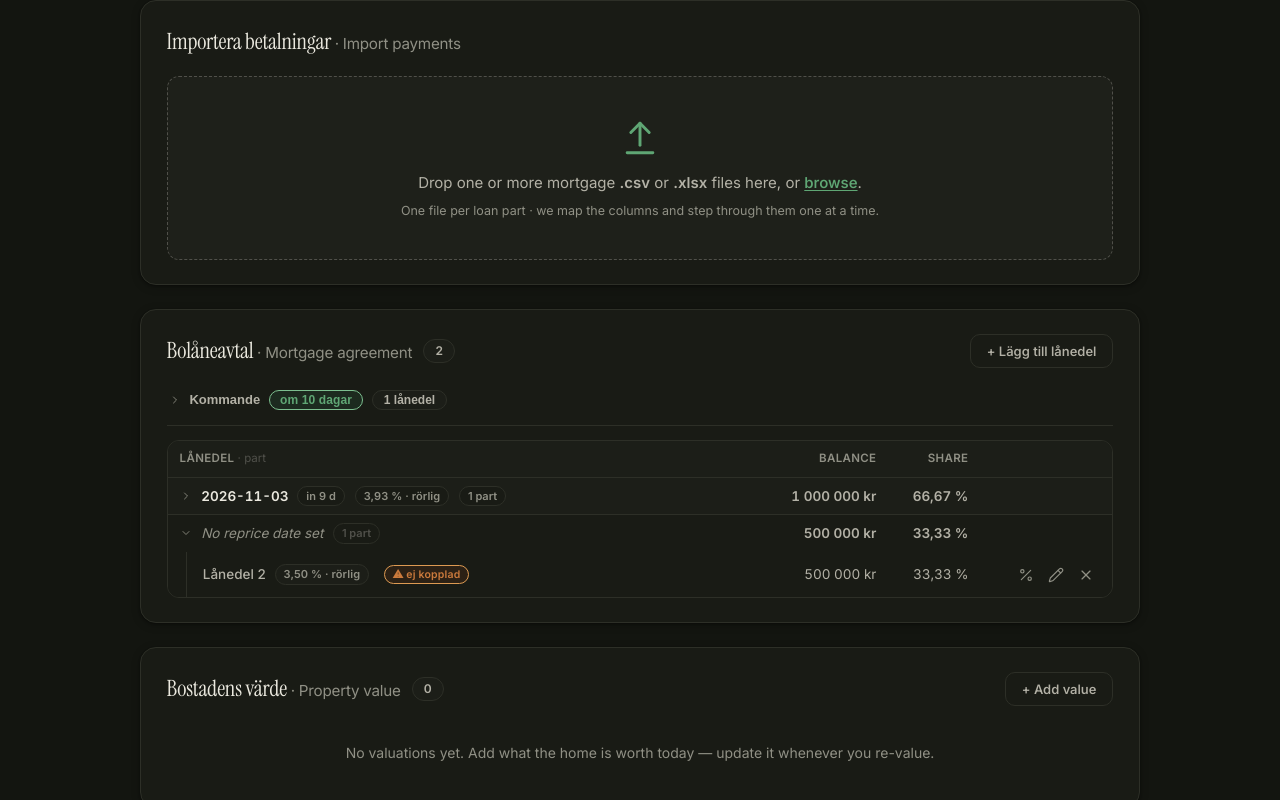
Scenario: Bolanekoll — Kommande band (plan 127 §4) › the edit action opens the standalone PeriodDialog in edit mode with that period
The image size is (1280, 800).
(page scrolled)
Step 1. Click the button with aria-label "kommande ränteperioder" → (308, 400), box [167, 386, 449, 414]
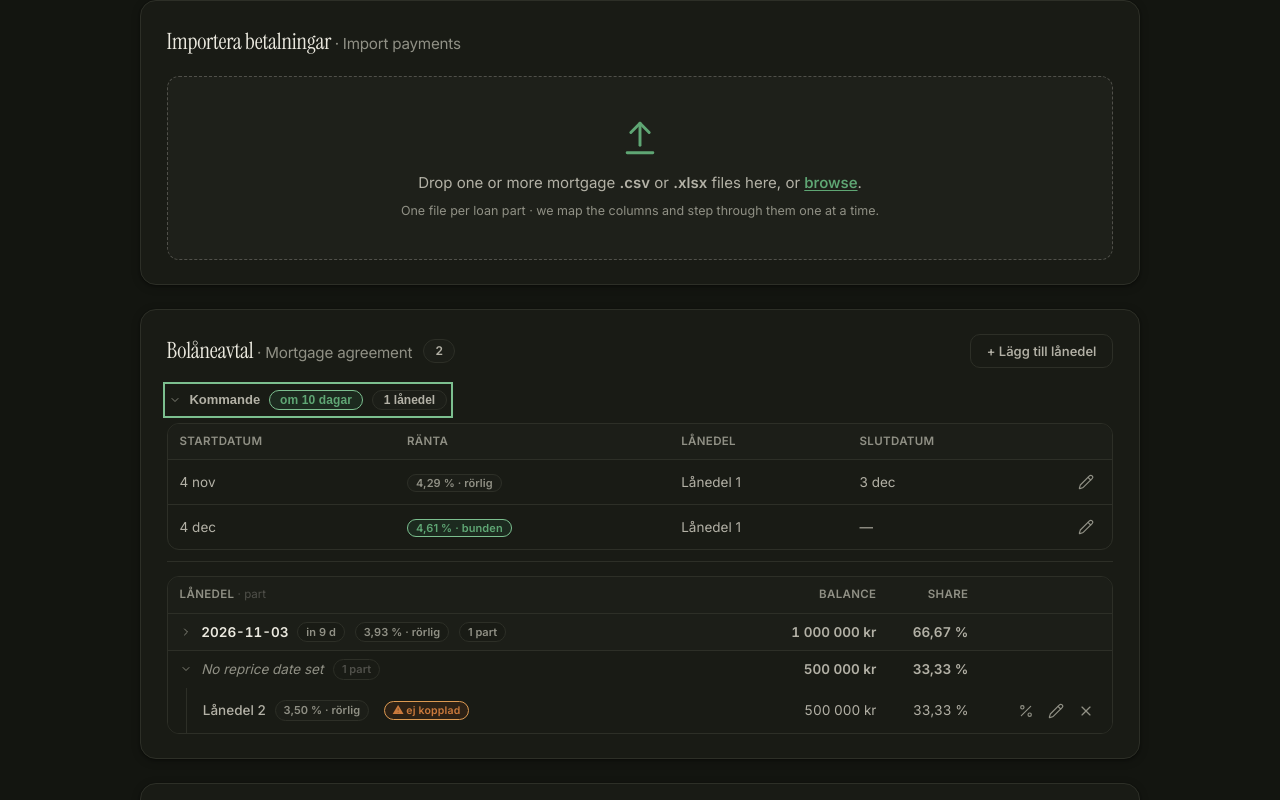
Step 2. Click the button named "redigera" in the row of "4 dec" → (1086, 527), box [1072, 513, 1100, 541]
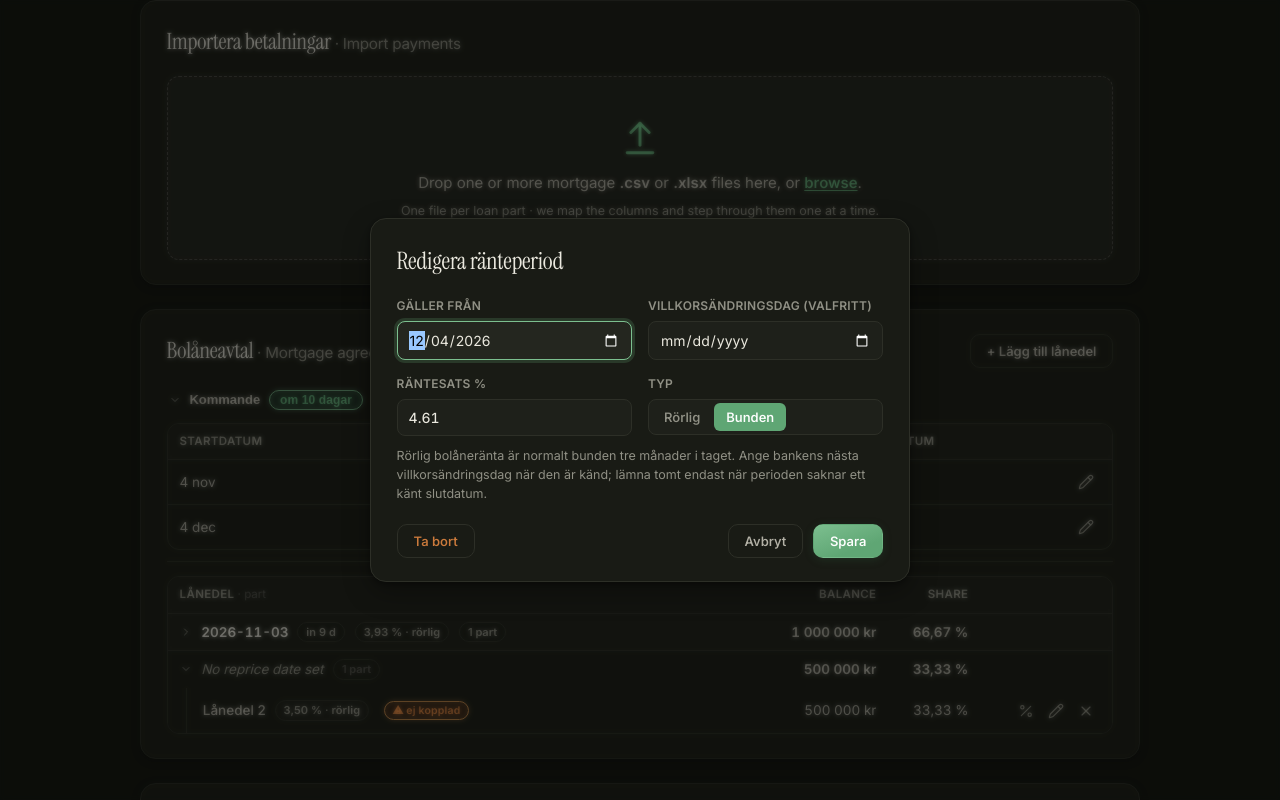
Expected: the field labelled "Räntesats %" holds "4.61", [397, 399, 632, 436]
Expected: the number of dialogs is 1, [370, 218, 910, 582]
